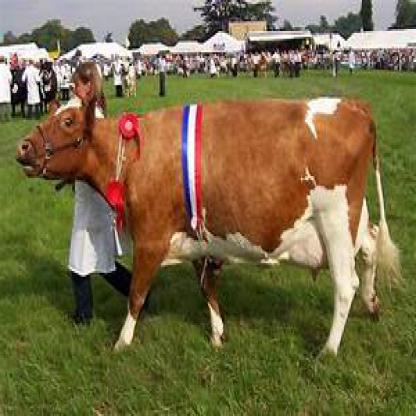cow: (19, 58, 380, 372)
